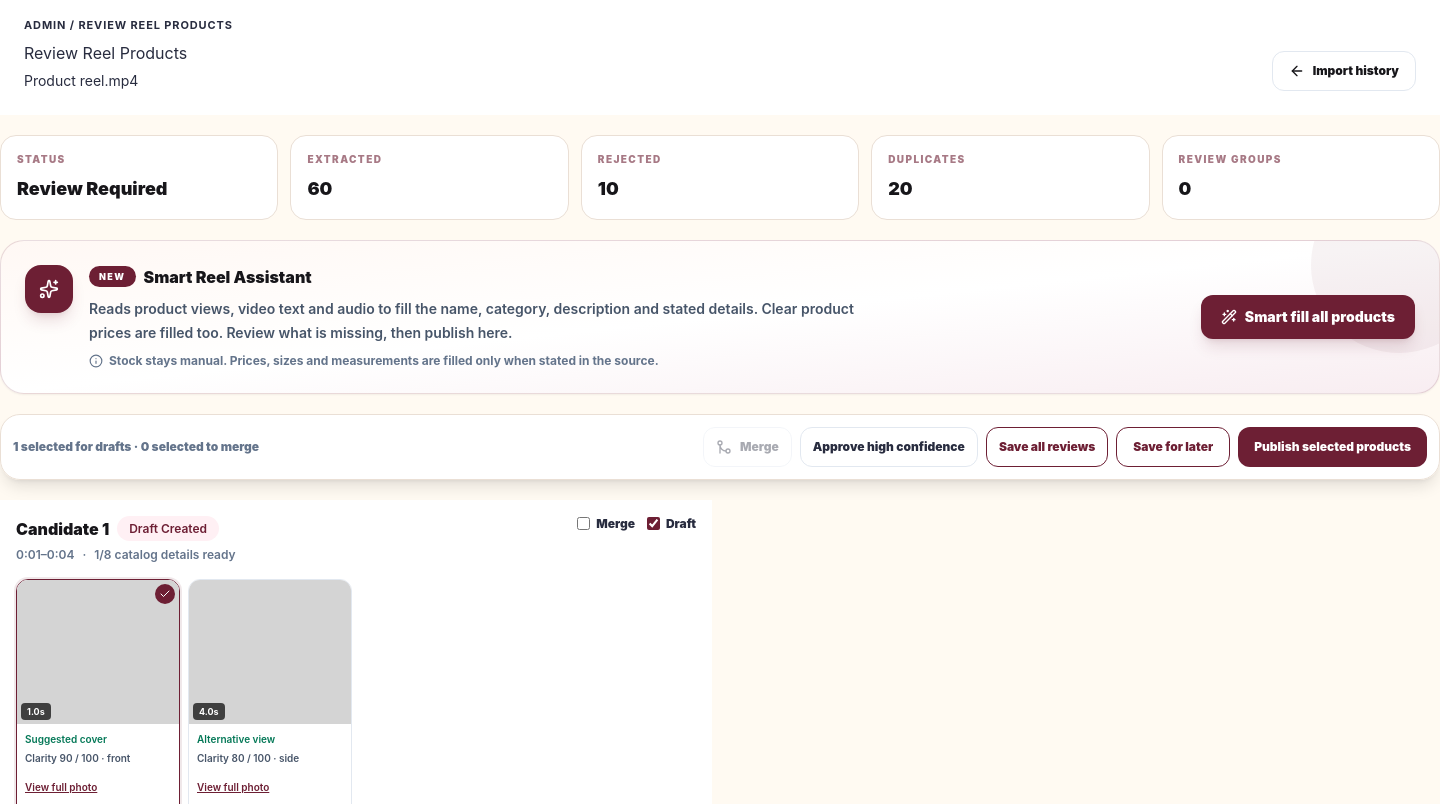
Test: smart fill works for a saved unpublished candidate and keeps manual edits
Step 1. Click the button "Smart fill all products" → coordinates (1308, 317), box [1201, 295, 1415, 339]
(page scrolled)
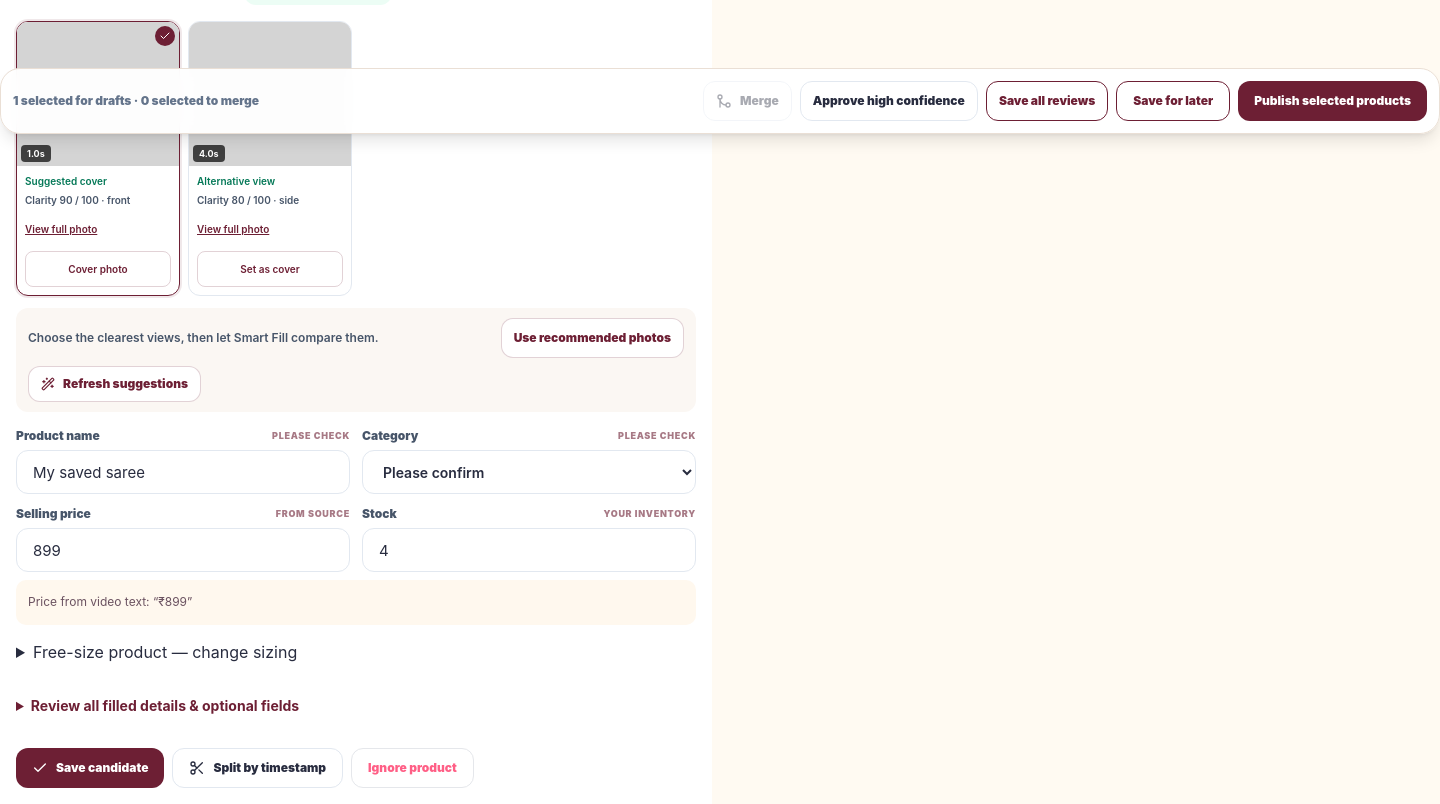
expect the field showing "My saved saree" is shown: met, box [16, 450, 350, 494]
expect the number field labelled "Selling price From source" holds "899": met, box [16, 528, 350, 572]
